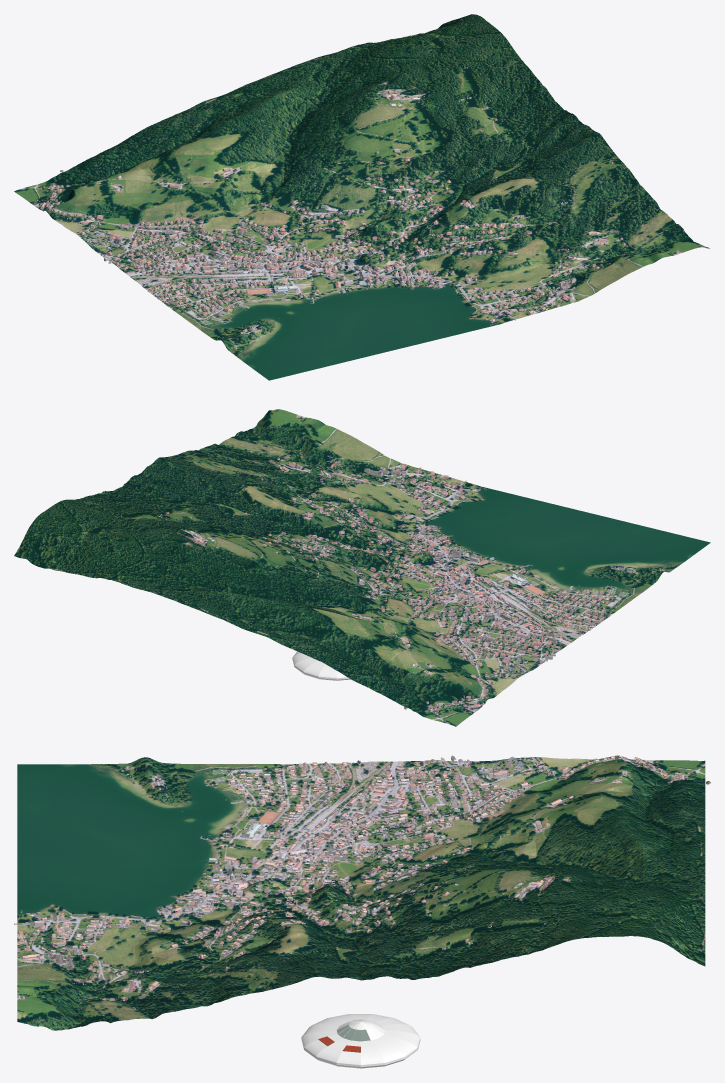
Rendered from asset.glb.
The picture shows the model from 3 angles, top to bottom: view 1: azimuth 30°, elevation 25°; view 2: azimuth 150°, elevation 25°; view 3: azimuth 270°, elevation 25°; orthographic projection. The views are drawn at different scales.
Visible parts, largest first — view 1: DGM_Schliersee_10m, Schliersee_Dach, Schliersee_Wand; view 2: DGM_Schliersee_10m, Schliersee_Dach, Schliersee_Wand, Ufo; view 3: DGM_Schliersee_10m, Schliersee_Dach, Schliersee_Wand, Ufo.
Boxes of the visible parts, <box> form: DGM_Schliersee_10m: <box>14,14,709,380</box>; Schliersee_Dach: <box>32,67,678,348</box>; Schliersee_Wand: <box>34,63,678,349</box>; DGM_Schliersee_10m: <box>14,409,710,726</box>; Schliersee_Dach: <box>120,415,664,714</box>; Schliersee_Wand: <box>116,416,664,714</box>; Ufo: <box>292,651,350,680</box>; DGM_Schliersee_10m: <box>17,755,705,1030</box>; Schliersee_Dach: <box>14,755,710,1018</box>; Schliersee_Wand: <box>14,756,710,1018</box>; Ufo: <box>301,1014,420,1068</box>.
Size of the model in its own units: 2005 by 801 by 2016.
Materials: 7 (3 with a texture image).
